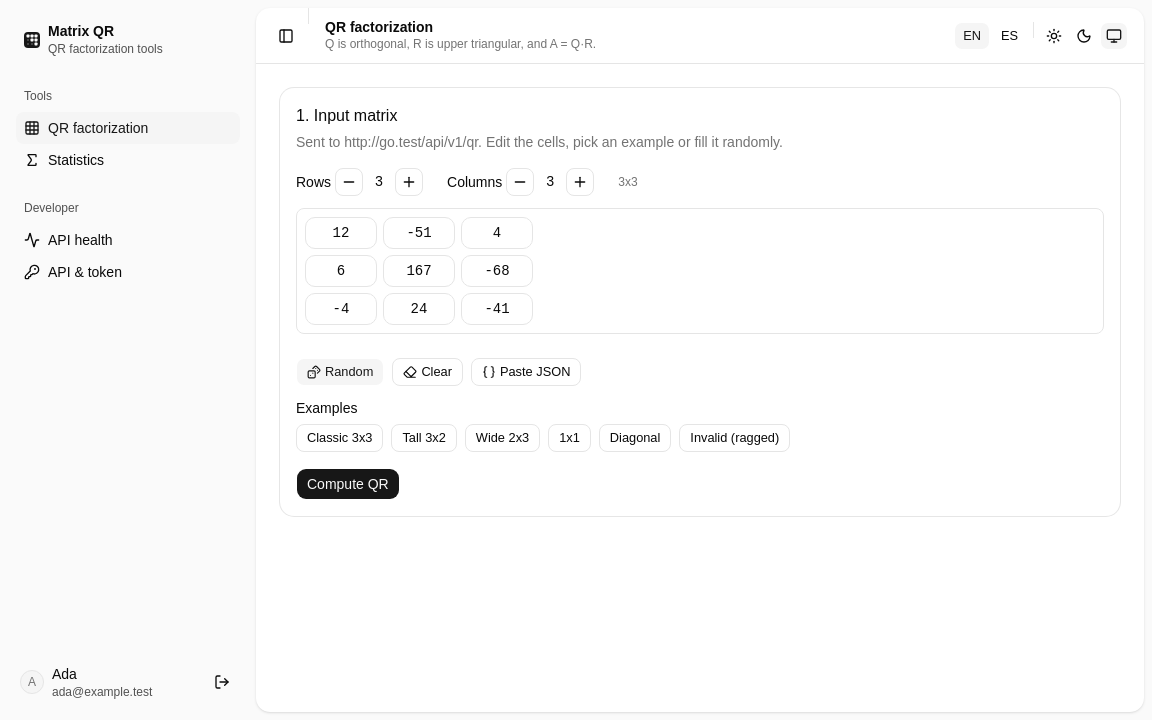
Test: QR results survive the SDK loading flag › handles a tall 3x2 matrix (Q is 3x3, R is 3x2)
Click the button "Compute QR" at (348, 484), box top-left (296, 468), bottom-right (400, 500)
(page scrolled)
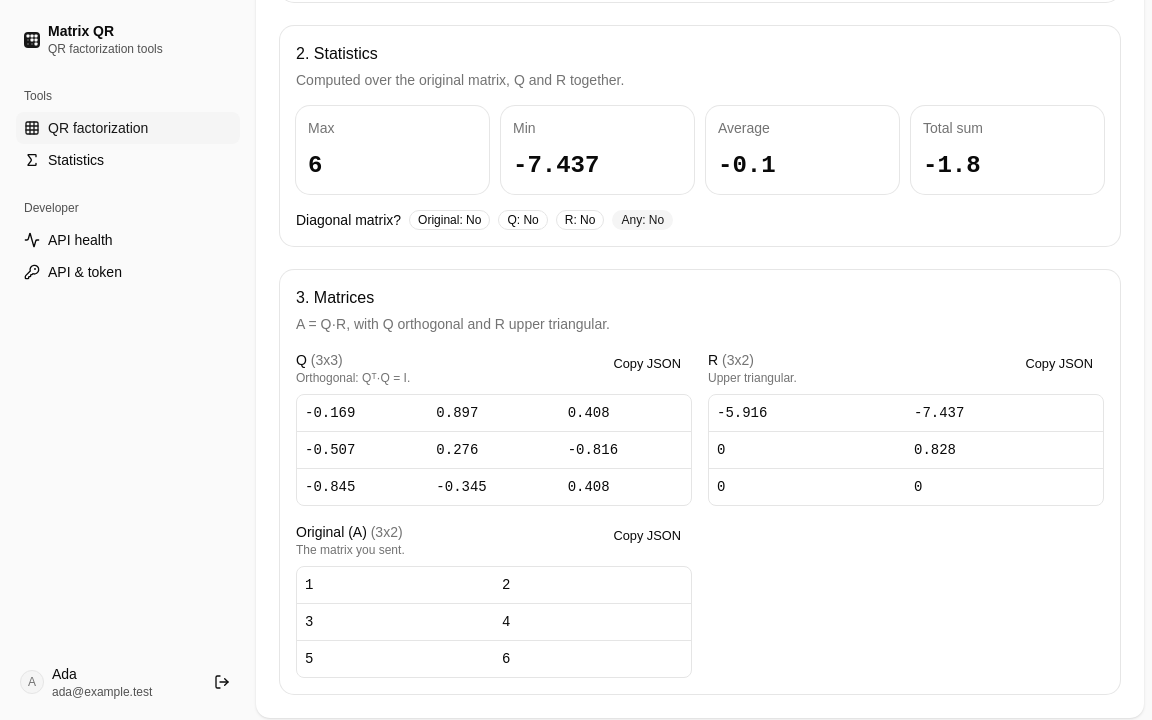
Now the text "Total sum" is shown, box top-left (923, 120), bottom-right (983, 136)
Now the heading "Q (3x3)" is shown, box top-left (296, 352), bottom-right (343, 368)
Now the heading "R (3x2)" is shown, box top-left (708, 352), bottom-right (754, 368)
